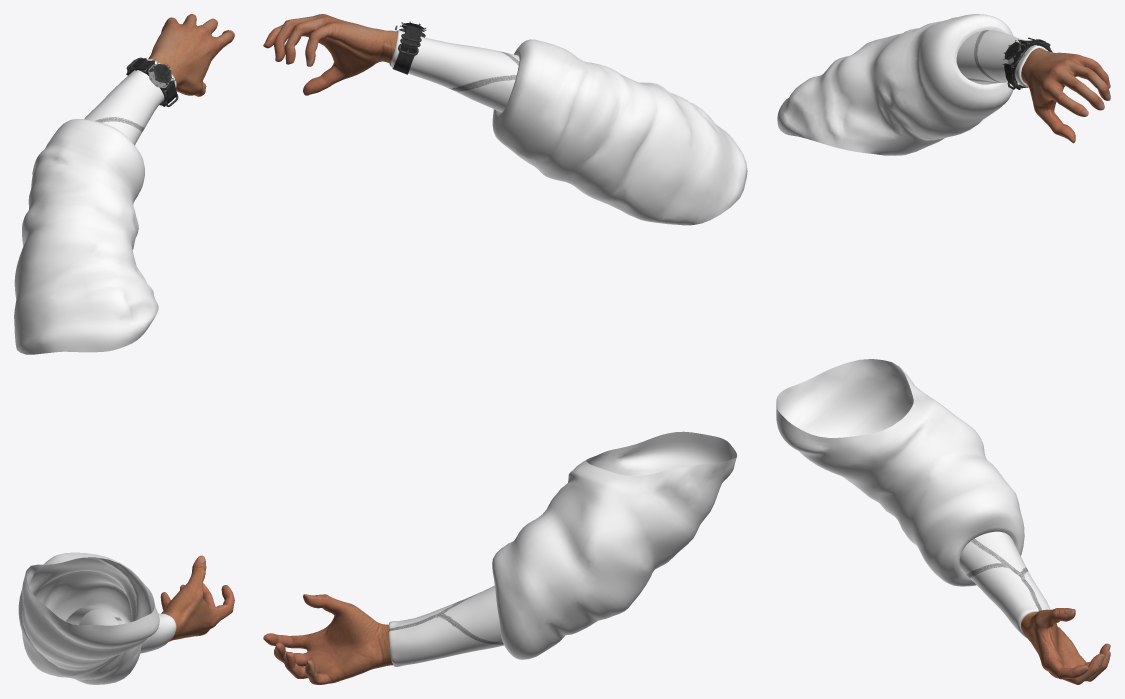
Rendered from mp_vm_arms_kleo_iw9_3_1_LOD0.obj.
3 renders of one model, left to right at view 1: azimuth 30°, elevation 25°; view 2: azimuth 150°, elevation 25°; view 3: azimuth 270°, elevation 25°, orthographic. The views are drawn at different scales.
Visible parts, largest first — view 1: xmaterial_1faca52318d10719, xmaterial_7727be02a6564766, xmaterial_50cd80ef75e2e1ba, xmaterial_10d369c57fba726; view 2: xmaterial_1faca52318d10719, xmaterial_7727be02a6564766, xmaterial_50cd80ef75e2e1ba, xmaterial_10d369c57fba726; view 3: xmaterial_1faca52318d10719, xmaterial_7727be02a6564766, xmaterial_50cd80ef75e2e1ba, xmaterial_10d369c57fba726.
Part boxes in pixels (box(x1,y1,x2,y2)): xmaterial_1faca52318d10719: box(14, 119, 159, 684); xmaterial_7727be02a6564766: box(148, 14, 234, 641); xmaterial_50cd80ef75e2e1ba: box(66, 59, 176, 653); xmaterial_10d369c57fba726: box(126, 57, 178, 106); xmaterial_1faca52318d10719: box(492, 39, 747, 659); xmaterial_7727be02a6564766: box(263, 14, 397, 684); xmaterial_50cd80ef75e2e1ba: box(388, 30, 519, 666); xmaterial_10d369c57fba726: box(392, 25, 421, 74); xmaterial_1faca52318d10719: box(776, 14, 1024, 586); xmaterial_7727be02a6564766: box(1021, 48, 1110, 684); xmaterial_50cd80ef75e2e1ba: box(956, 30, 1050, 637); xmaterial_10d369c57fba726: box(1004, 37, 1052, 89).
Size of the model in its own units: 56.96 by 103 by 50.8.
Materials: 6 (6 with a texture image).
